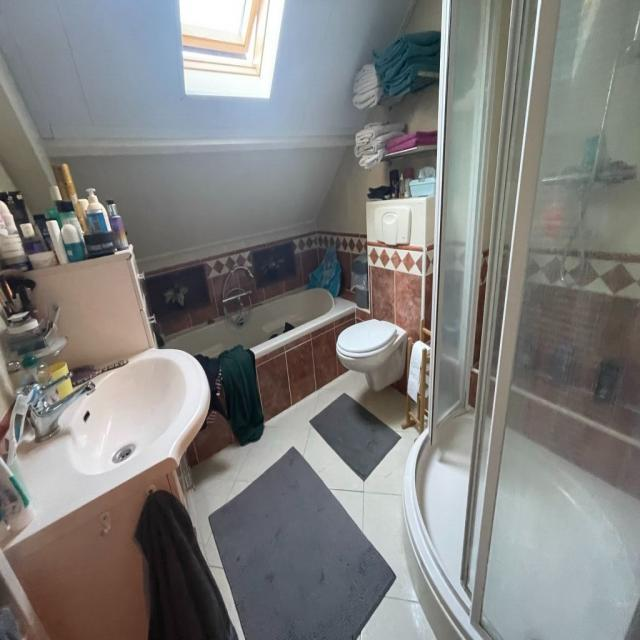bath: (162, 283, 356, 361)
douche: (401, 0, 640, 640)
toilet: (338, 205, 411, 392)
wastafel: (0, 347, 211, 552), (10, 468, 200, 640)
